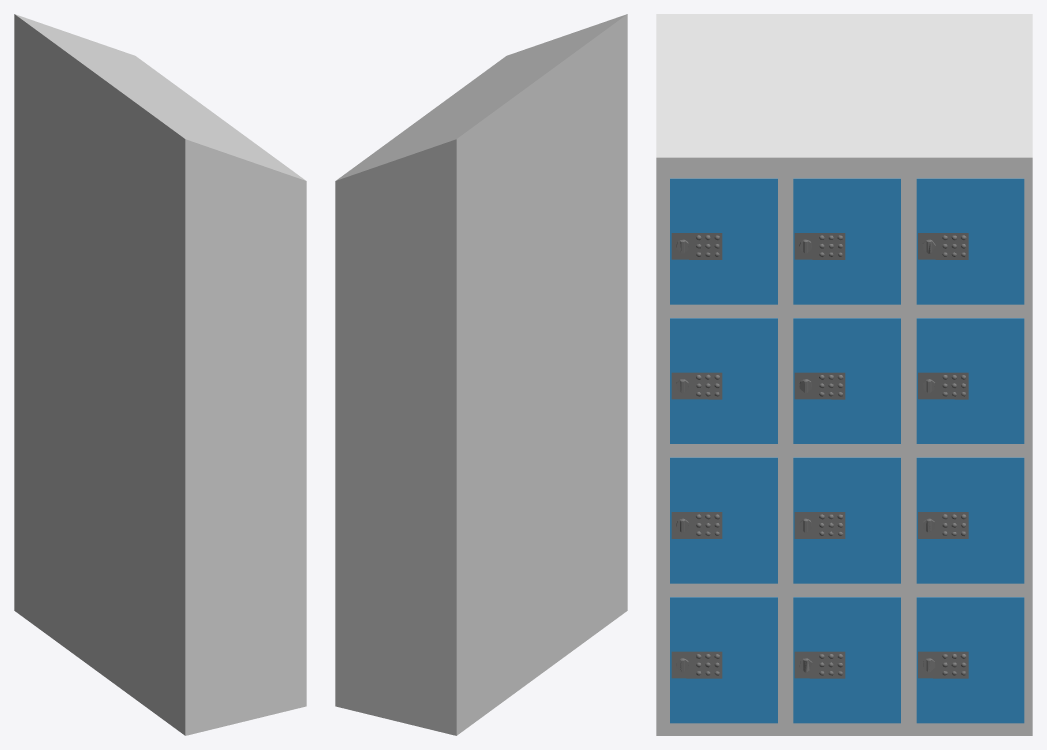
The model's file is Spind.fbx.
3 renders of one model, left to right at view 1: azimuth 30°, elevation 25°; view 2: azimuth 150°, elevation 25°; view 3: azimuth 270°, elevation 25°, orthographic. The views are drawn at different scales.
Parts seen in each view (by area): view 1: Spind_LOD0; view 2: Spind_LOD0; view 3: Spind_LOD0.
Boxes of the visible parts, x1,y1,x2,y2 form: Spind_LOD0: (14,14,306,735); Spind_LOD0: (335,14,627,735); Spind_LOD0: (656,14,1032,735).
Size of what is drawn, in the model's own units: 0.5233 by 2.35 by 1.22.
